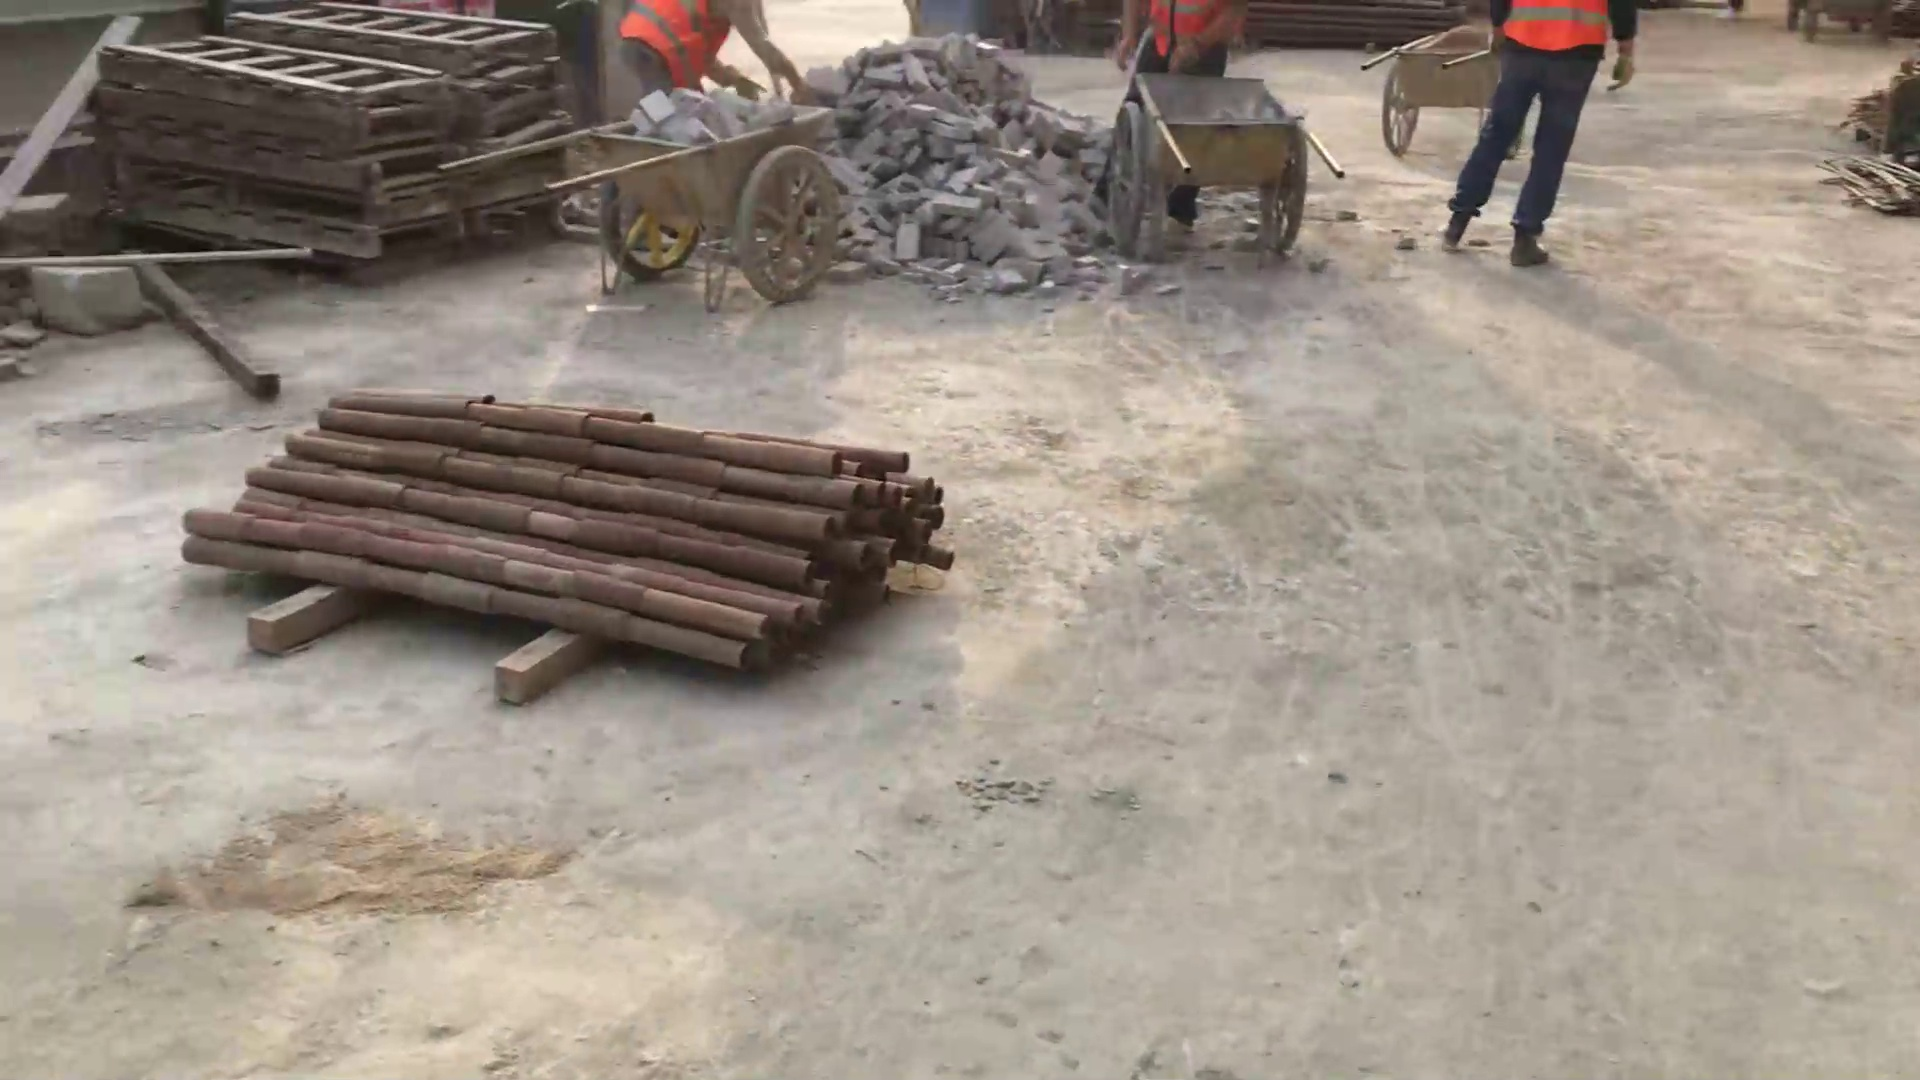handcart: (431, 100, 844, 314), (1105, 66, 1349, 259), (1357, 21, 1526, 165)
person: (1440, 1, 1643, 270), (1081, 1, 1248, 233), (616, 1, 808, 113)
scaffold: (180, 383, 965, 670)
vest: (618, 1, 732, 97), (1497, 1, 1620, 57), (1140, 1, 1226, 59)
